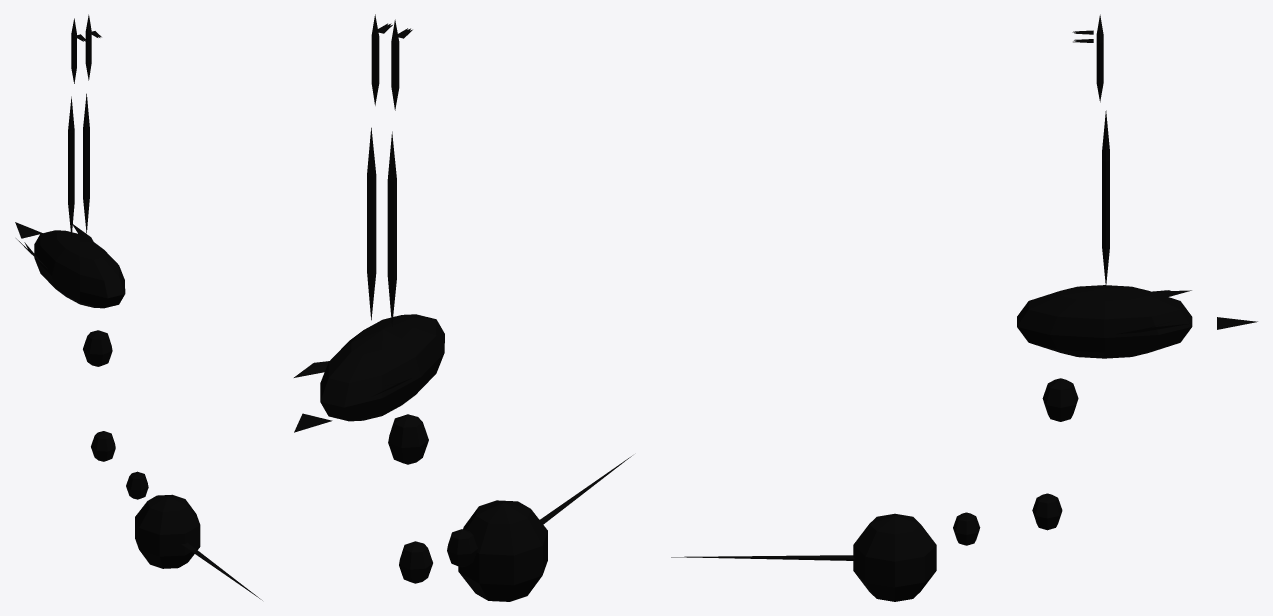
Rendered from standing.glb.
The picture shows the model from 3 angles, left to right: view 1: azimuth 30°, elevation 25°; view 2: azimuth 150°, elevation 25°; view 3: azimuth 270°, elevation 25°; orthographic projection. The views are drawn at different scales.
Parts seen in each view (by area): view 1: BirdBody; view 2: BirdBody; view 3: BirdBody.
Part boxes in pixels (<box>): BirdBody: <box>15,14,262,600</box>; BirdBody: <box>294,14,632,601</box>; BirdBody: <box>671,14,1257,601</box>.
Size of the model in its own units: 0.4328 by 3.27 by 3.03.
1 material, 1 textured.
